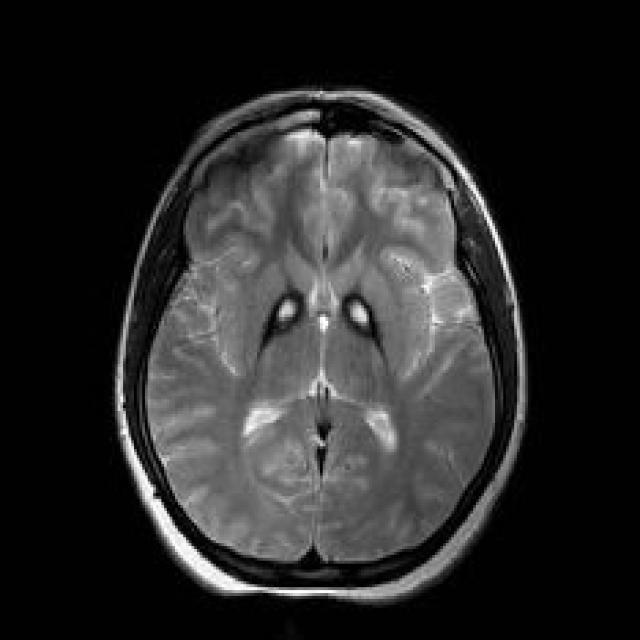No_Tumor: (116, 89, 525, 601)
